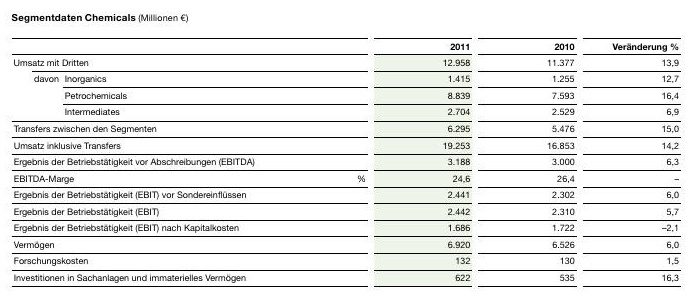table: (0, 0, 693, 298)
